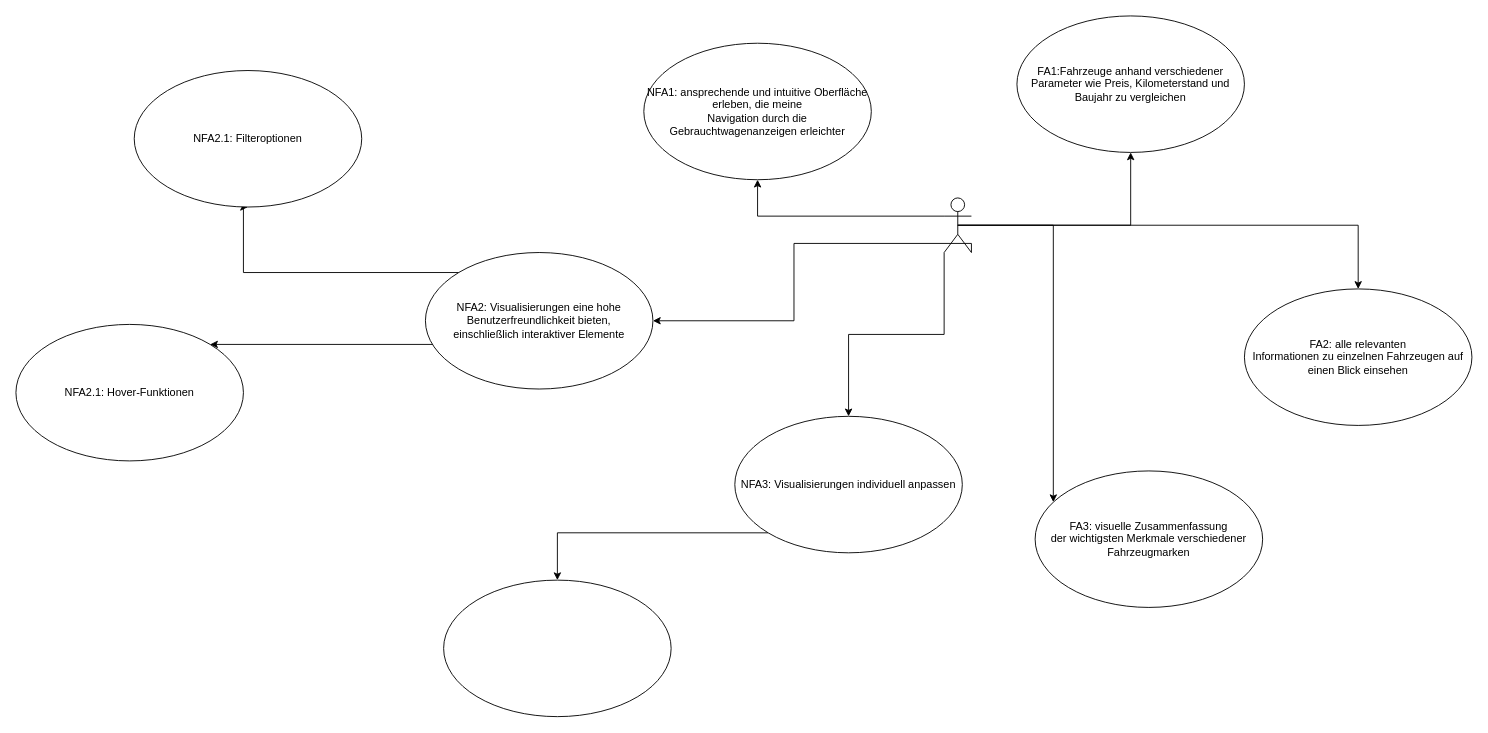
This 1488x733 diagram has some shape labels left out. Each missing label, with the centre of its shape:
Gebrauchtwagenhändler: the point at 957,225
NFA3.1: Dropdown Menüs: the point at 557,648
